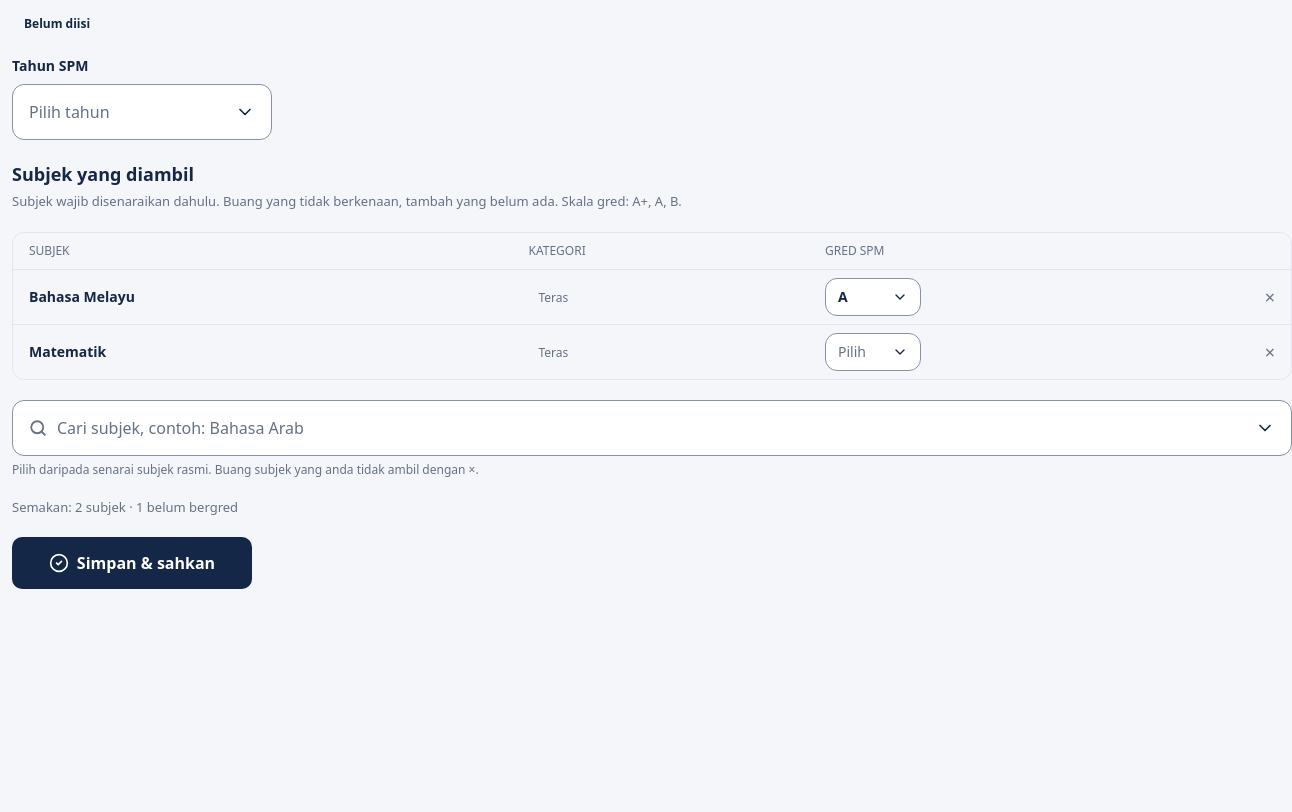
Test: SubjectTable › picks grades with the system dropdown and sends them with the form
Click the dropdown named "Gred Matematik" at (852, 351), box [838,342,866,360]
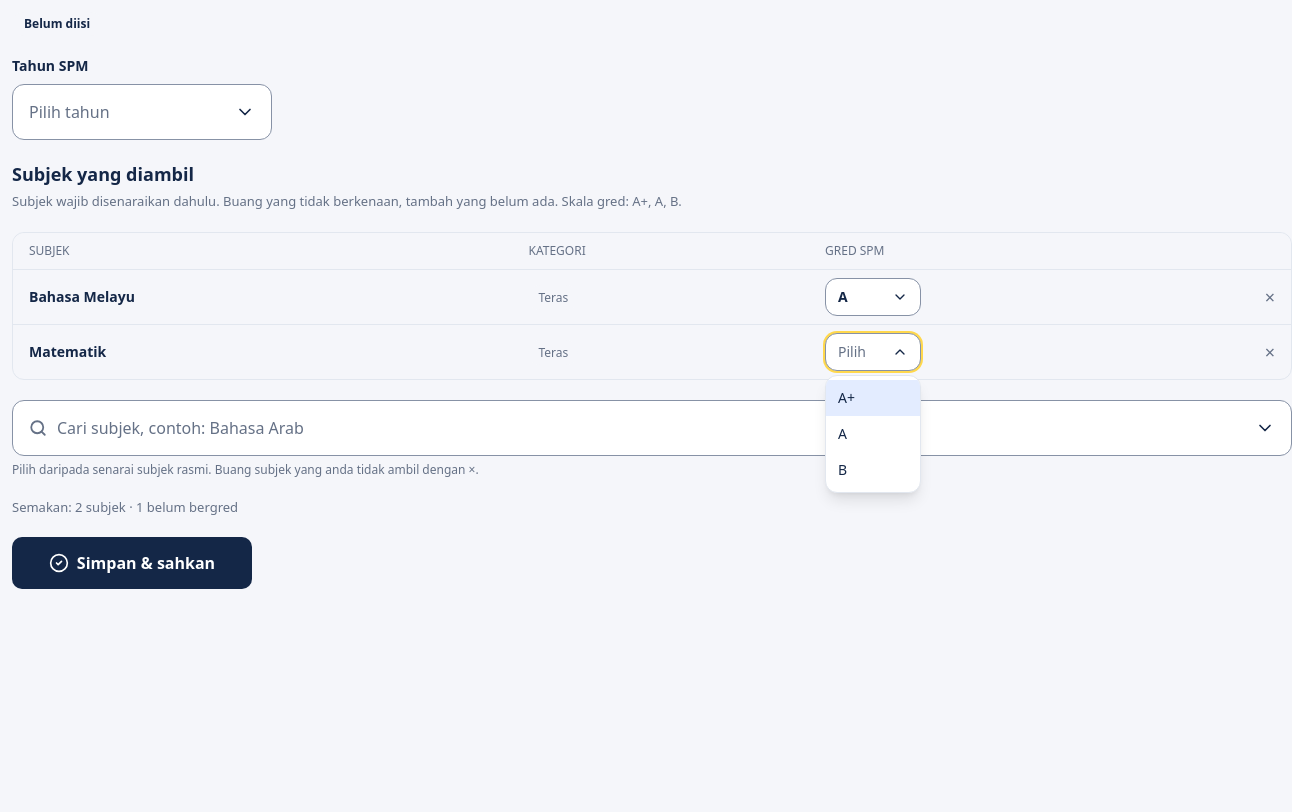
Click the option "B" at (843, 469), box [838,460,847,478]
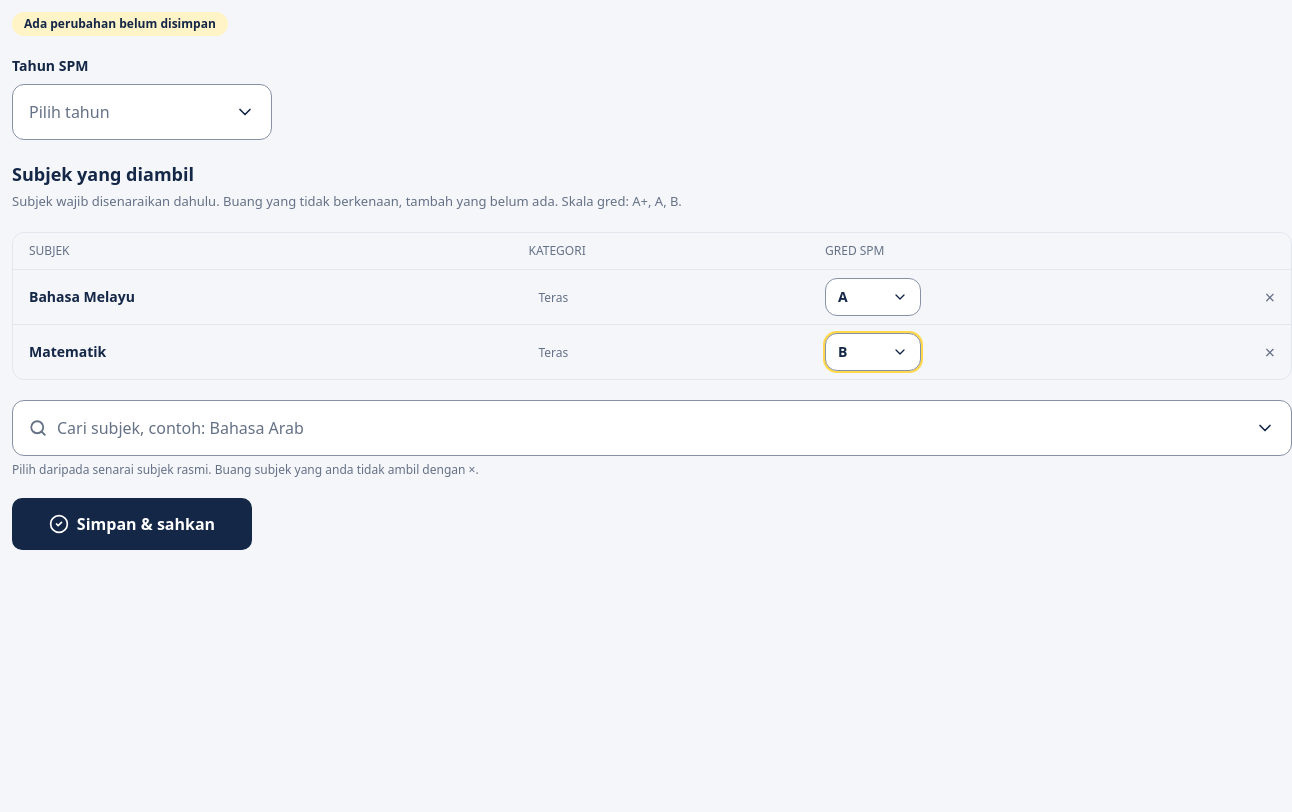
Now the text "belum bergred" is gone
